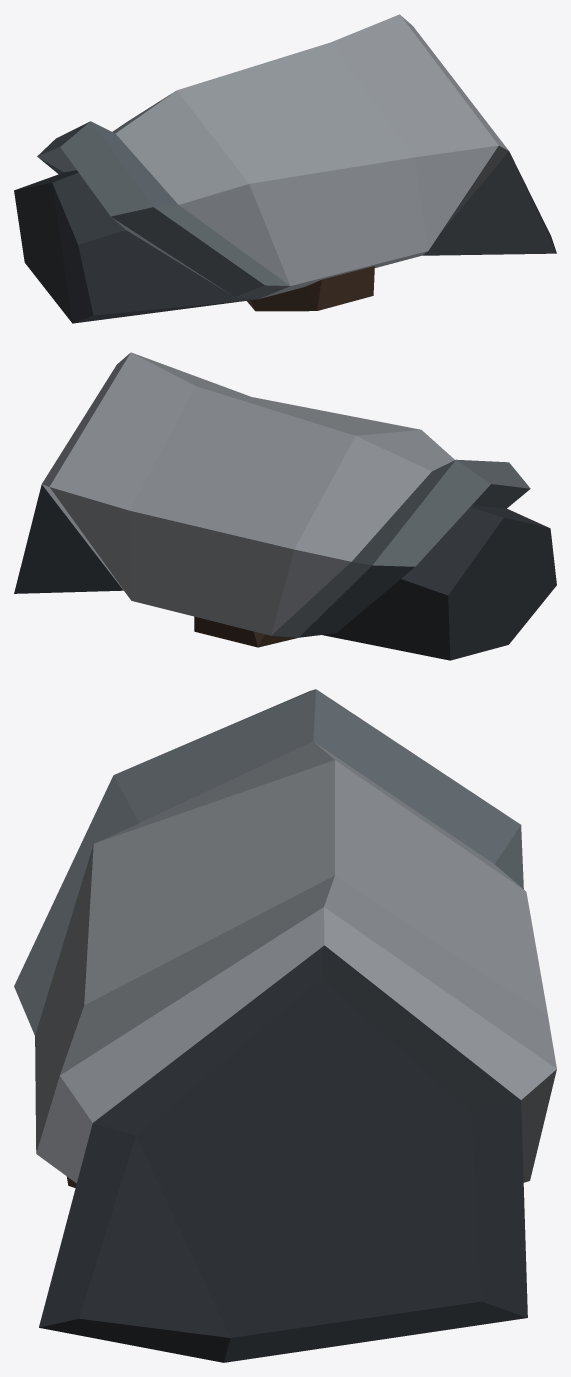
The model's file is Chr_ArmUpperRight_Male_06_Static.fbx.
The picture shows the model from 3 angles, top to bottom: view 1: azimuth 30°, elevation 25°; view 2: azimuth 150°, elevation 25°; view 3: azimuth 270°, elevation 25°; orthographic projection. The views are drawn at different scales.
Parts seen in each view (by area): view 1: Chr_ArmUpperRight_Male_06_Static; view 2: Chr_ArmUpperRight_Male_06_Static; view 3: Chr_ArmUpperRight_Male_06_Static.
Boxes of the visible parts, box(x1,y1,x2,y2) form: Chr_ArmUpperRight_Male_06_Static: box(14, 14, 556, 323); Chr_ArmUpperRight_Male_06_Static: box(14, 352, 556, 660); Chr_ArmUpperRight_Male_06_Static: box(14, 689, 556, 1362).
Size of the model in its own units: 0.3244 by 0.1699 by 0.1927.
